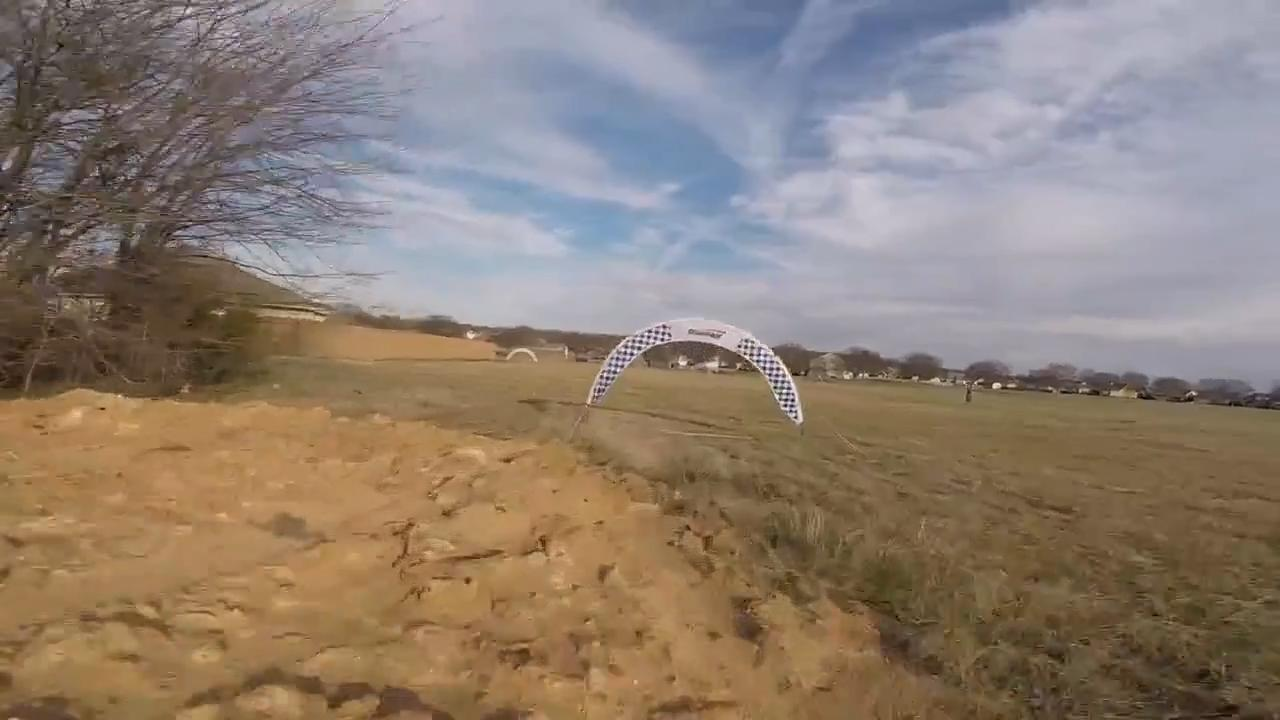gate: (580, 315, 808, 429)
